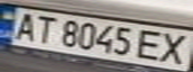0: (75, 20, 96, 52)
4: (93, 22, 118, 55)
5: (112, 25, 139, 57)
8: (54, 17, 81, 48)
A: (6, 10, 42, 42)
E: (133, 28, 169, 62)
T: (30, 14, 60, 45)
X: (154, 29, 193, 65)
